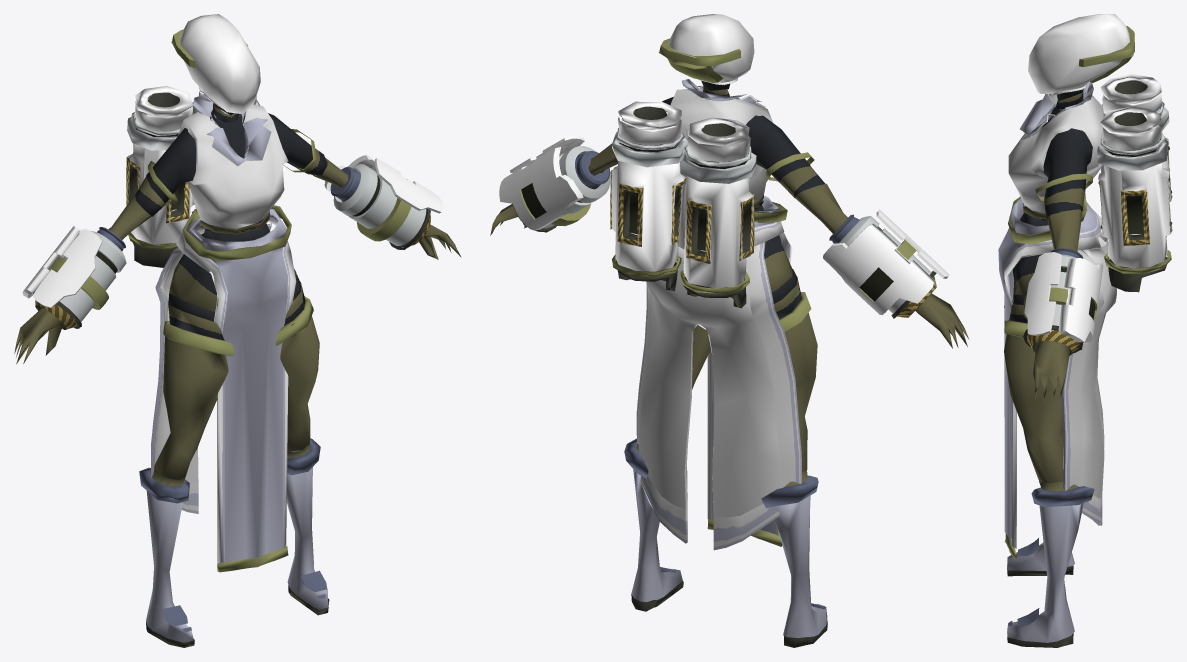
Rendered from artificer-low.glb.
The picture shows the model from 3 angles, left to right: view 1: azimuth 30°, elevation 25°; view 2: azimuth 150°, elevation 25°; view 3: azimuth 270°, elevation 25°; orthographic projection. The views are drawn at different scales.
Parts seen in each view (by area): view 1: mdlMage; view 2: mdlMage; view 3: mdlMage.
Part boxes in pixels (x1,y1,x2,y2): mdlMage: [14, 14, 461, 647]; mdlMage: [490, 14, 969, 647]; mdlMage: [998, 14, 1172, 647].
Bounding box in the file's own units: 1.57 × 1.96 × 0.5242.
1 material, 1 textured.
